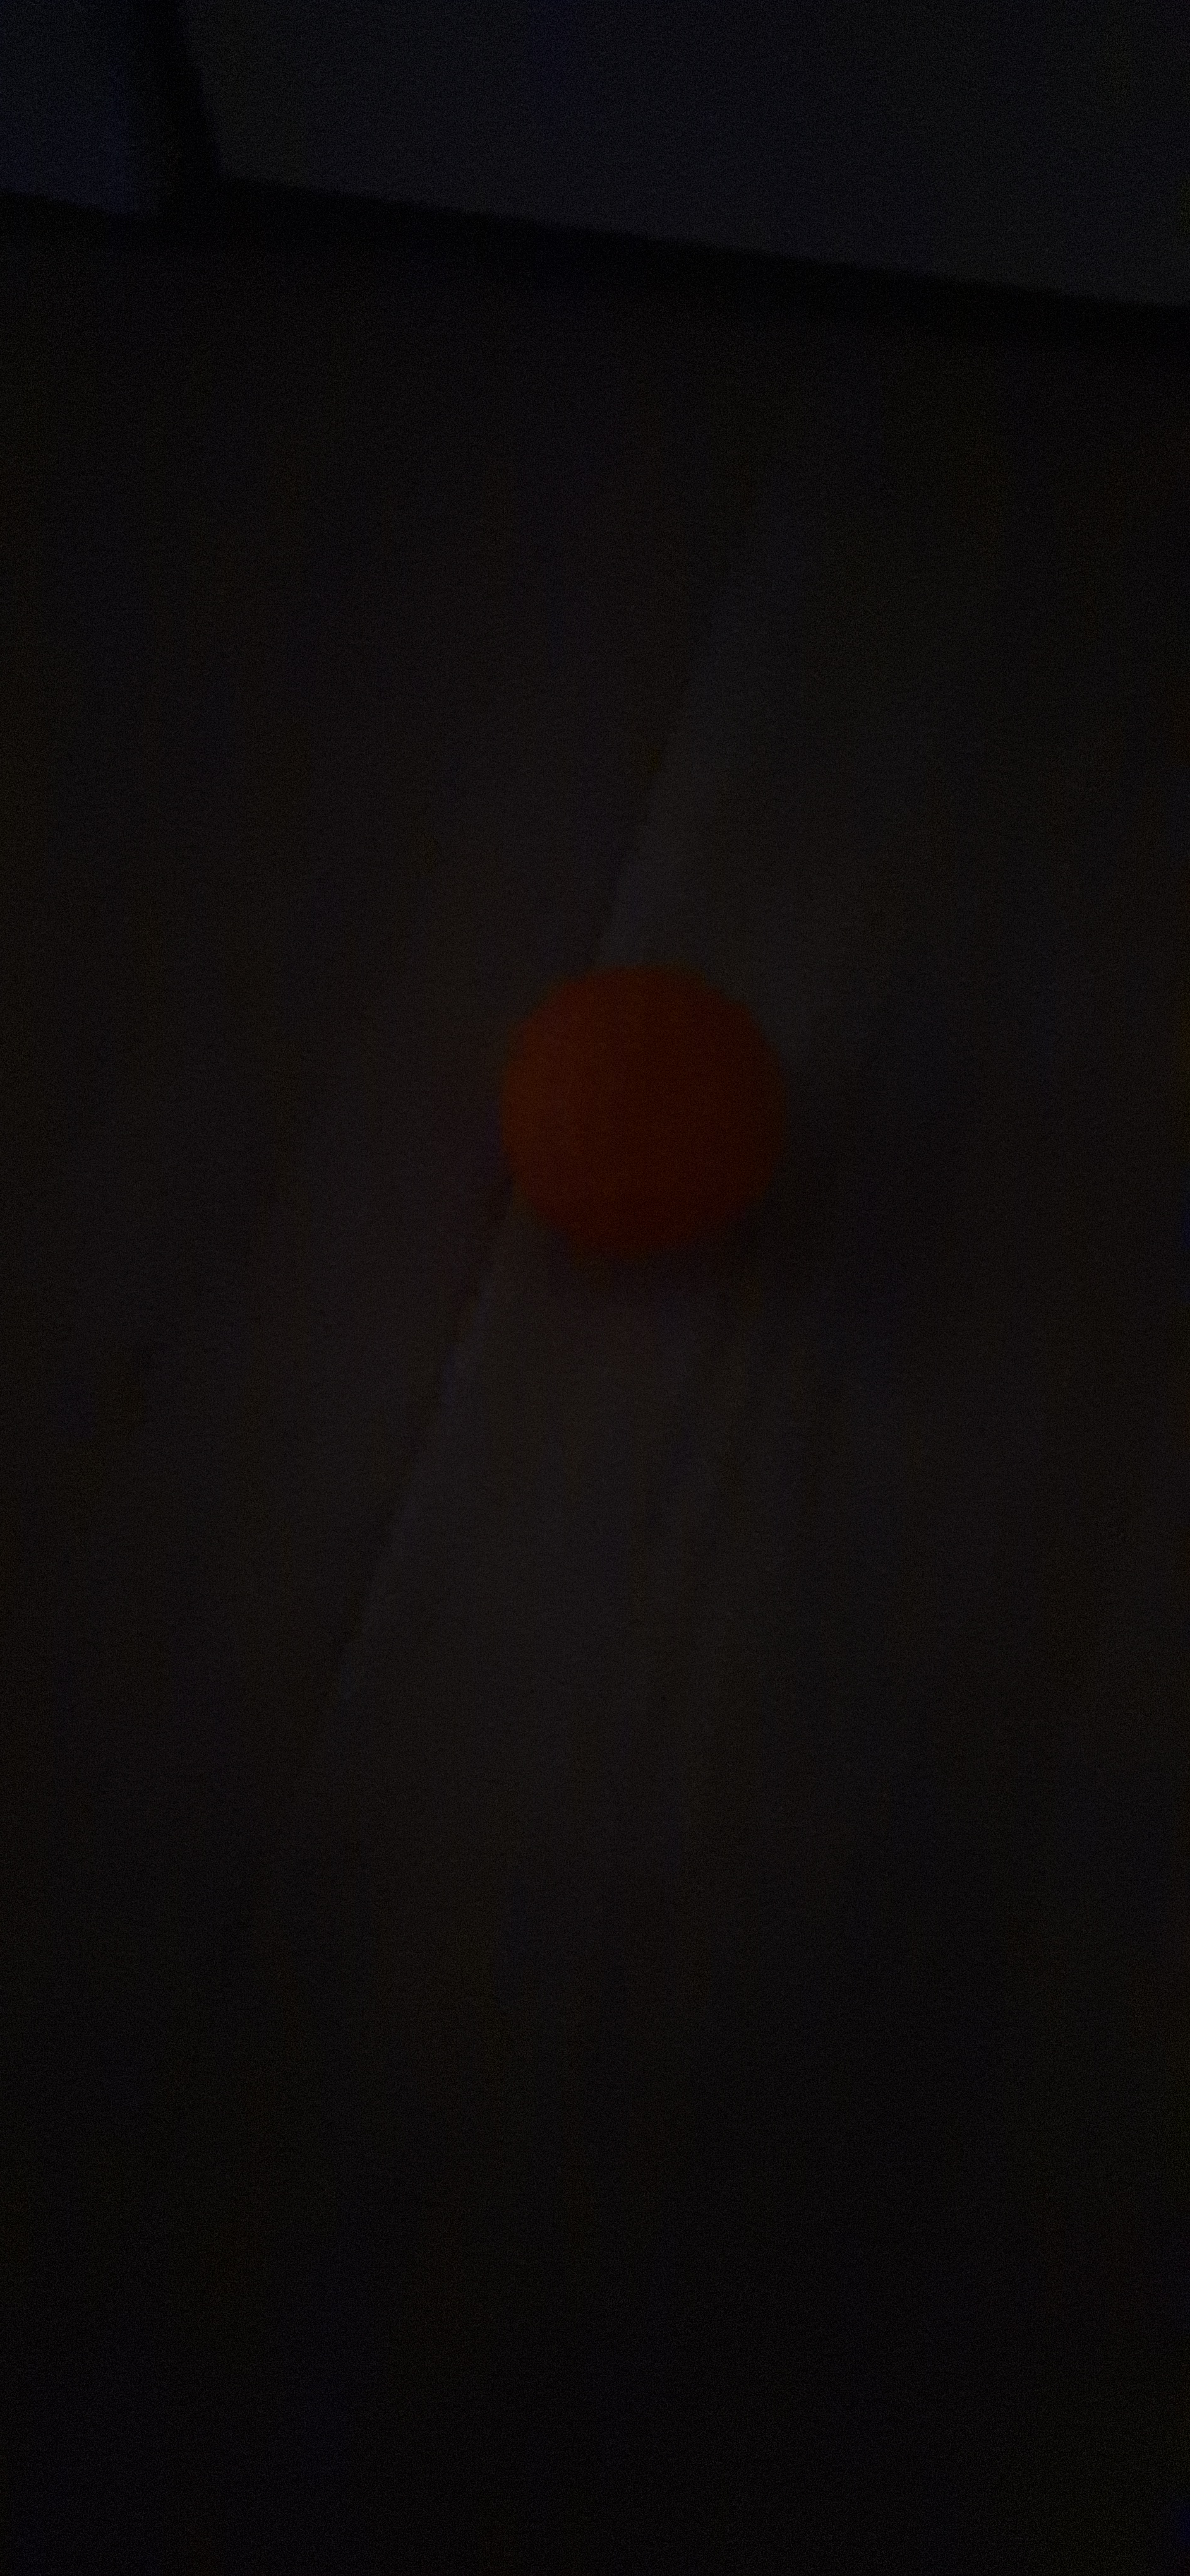ball: (447, 866, 583, 1505)
